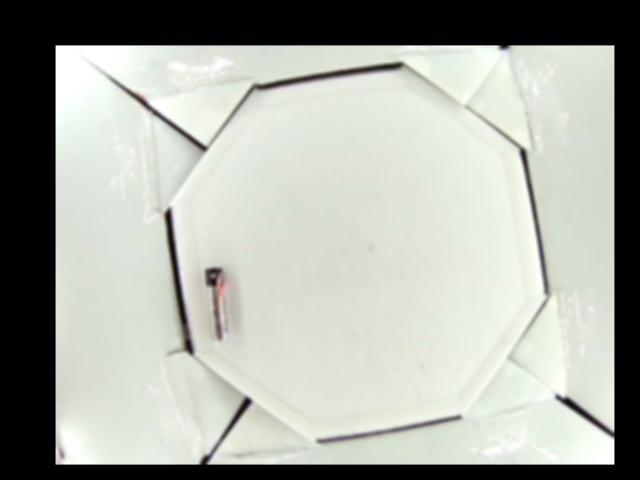Battery: (204, 268, 227, 343)
